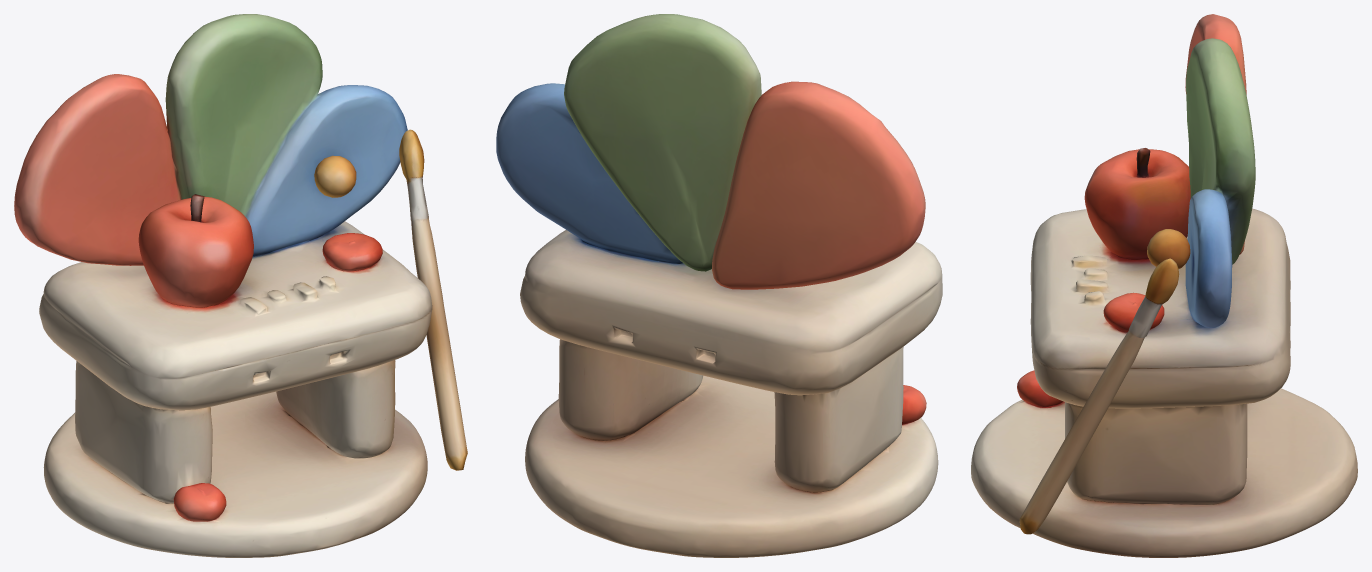
Rendered from designer-detail.glb.
The picture shows the model from 3 angles, left to right: view 1: azimuth 30°, elevation 25°; view 2: azimuth 150°, elevation 25°; view 3: azimuth 270°, elevation 25°; orthographic projection. The views are drawn at different scales.
Parts seen in each view (by area): view 1: tripo_node_f6b79eca-c8a5-46f3-af38-3a124e73affe; view 2: tripo_node_f6b79eca-c8a5-46f3-af38-3a124e73affe; view 3: tripo_node_f6b79eca-c8a5-46f3-af38-3a124e73affe.
Part boxes in pixels (left/top/right/bottom): tripo_node_f6b79eca-c8a5-46f3-af38-3a124e73affe: left=14, top=14, right=467, bottom=557; tripo_node_f6b79eca-c8a5-46f3-af38-3a124e73affe: left=496, top=14, right=942, bottom=557; tripo_node_f6b79eca-c8a5-46f3-af38-3a124e73affe: left=971, top=14, right=1357, bottom=557.
Size of the model in its own units: 0.9166 by 0.9798 by 0.7789.
Materials: 1 (1 with a texture image).
